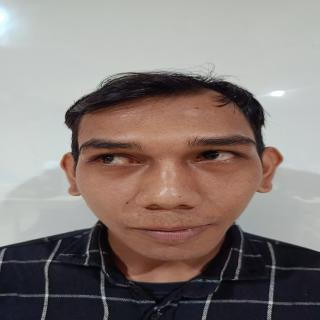Takut: (71, 94, 269, 271)
